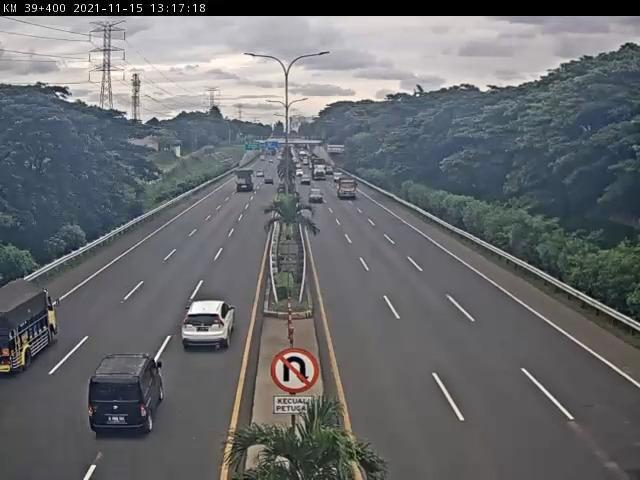car: (89, 355, 166, 433), (177, 302, 238, 353), (308, 189, 327, 206)
truck: (2, 277, 61, 382), (336, 176, 360, 202)
